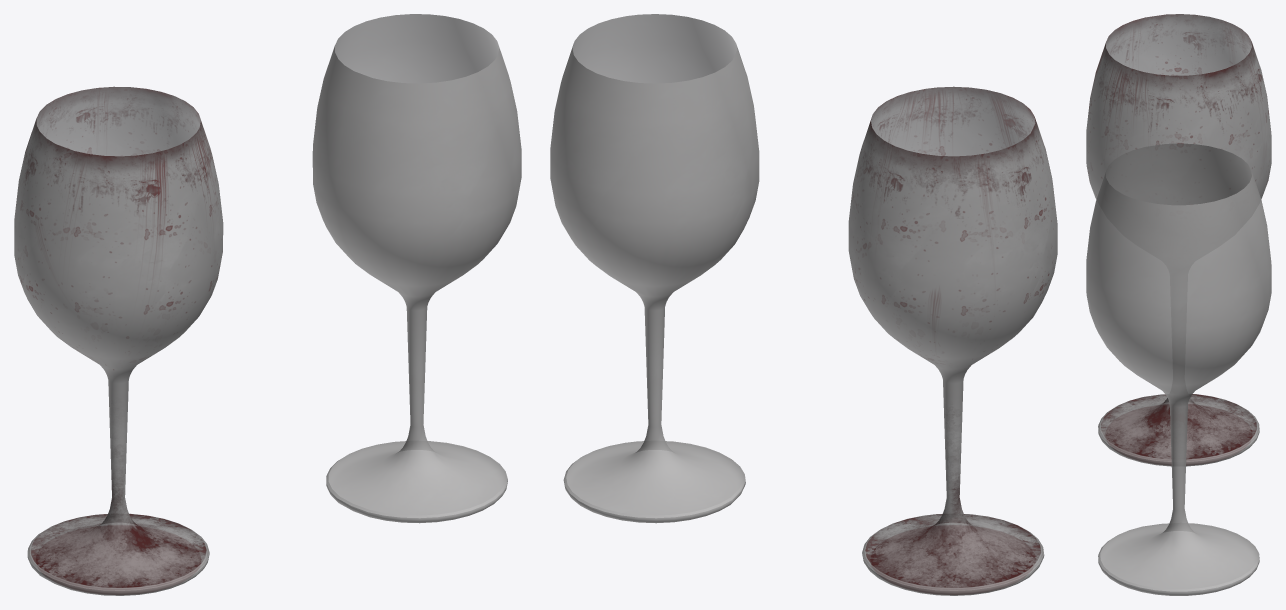
File: obj_wine_glasses_24ec0d.glb
3 views of the same model, side by side, from view 1: azimuth 30°, elevation 25°; view 2: azimuth 150°, elevation 25°; view 3: azimuth 270°, elevation 25° (orthographic). The views are drawn at different scales.
Visible parts, largest first — view 1: obj_wine_glasses_24ec0d; view 2: obj_wine_glasses_24ec0d; view 3: obj_wine_glasses_24ec0d.
Boxes of the visible parts, bbox=[...] form: obj_wine_glasses_24ec0d: bbox=[14, 14, 521, 595]; obj_wine_glasses_24ec0d: bbox=[550, 14, 1057, 595]; obj_wine_glasses_24ec0d: bbox=[1086, 14, 1271, 595].
Bounding box in the file's own units: 0.2512 × 0.22 × 0.0947.
2 materials, 2 textured.
